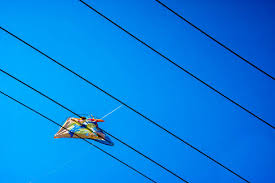kite: (51, 113, 132, 148)
